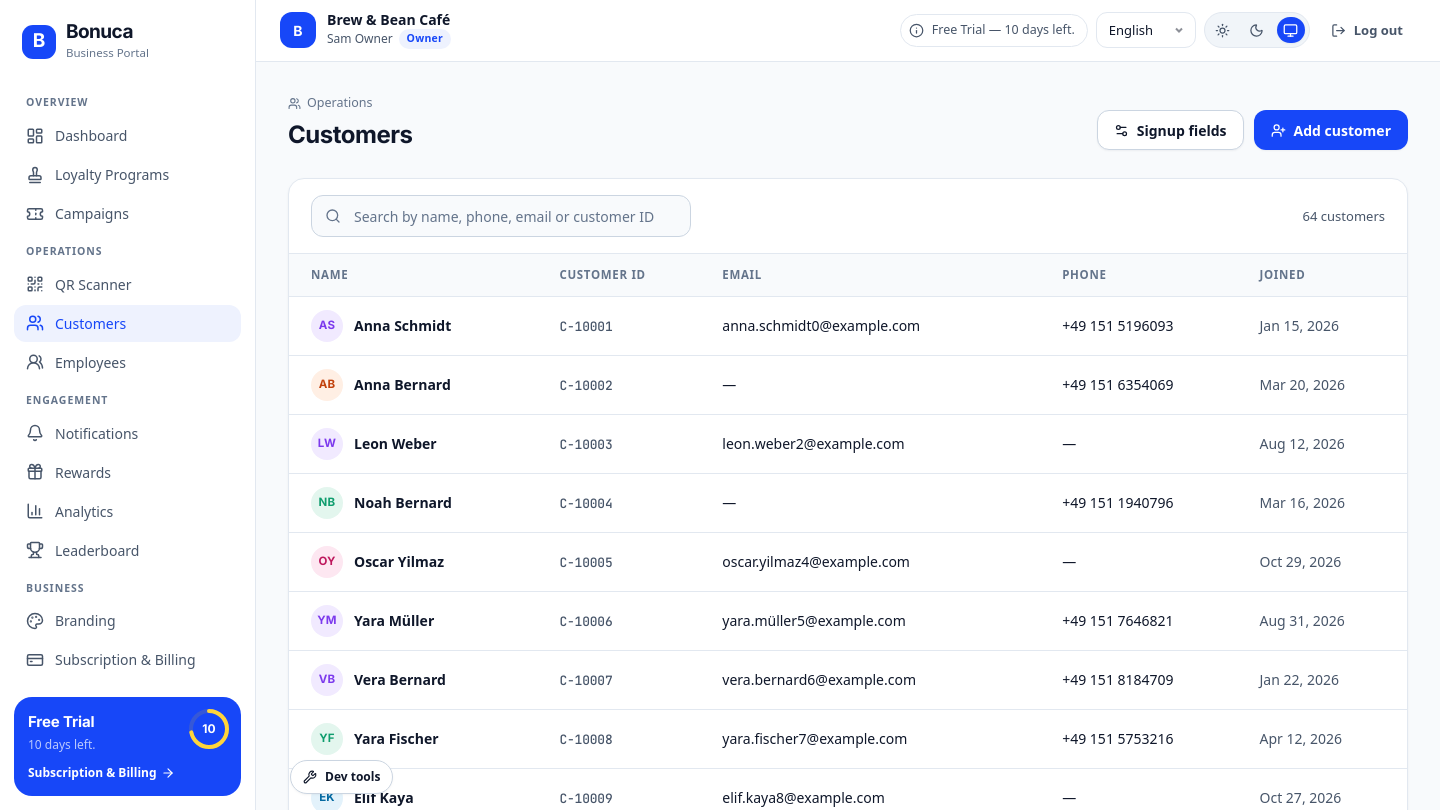
Test: customers search (spec §4.5) › filters by customer ID
Expected: the text "C-10001" is shown, 559,318 -> 613,335
Type "C-10002" into the search field named "Search customers" at (501, 216), box 311,195 -> 691,237
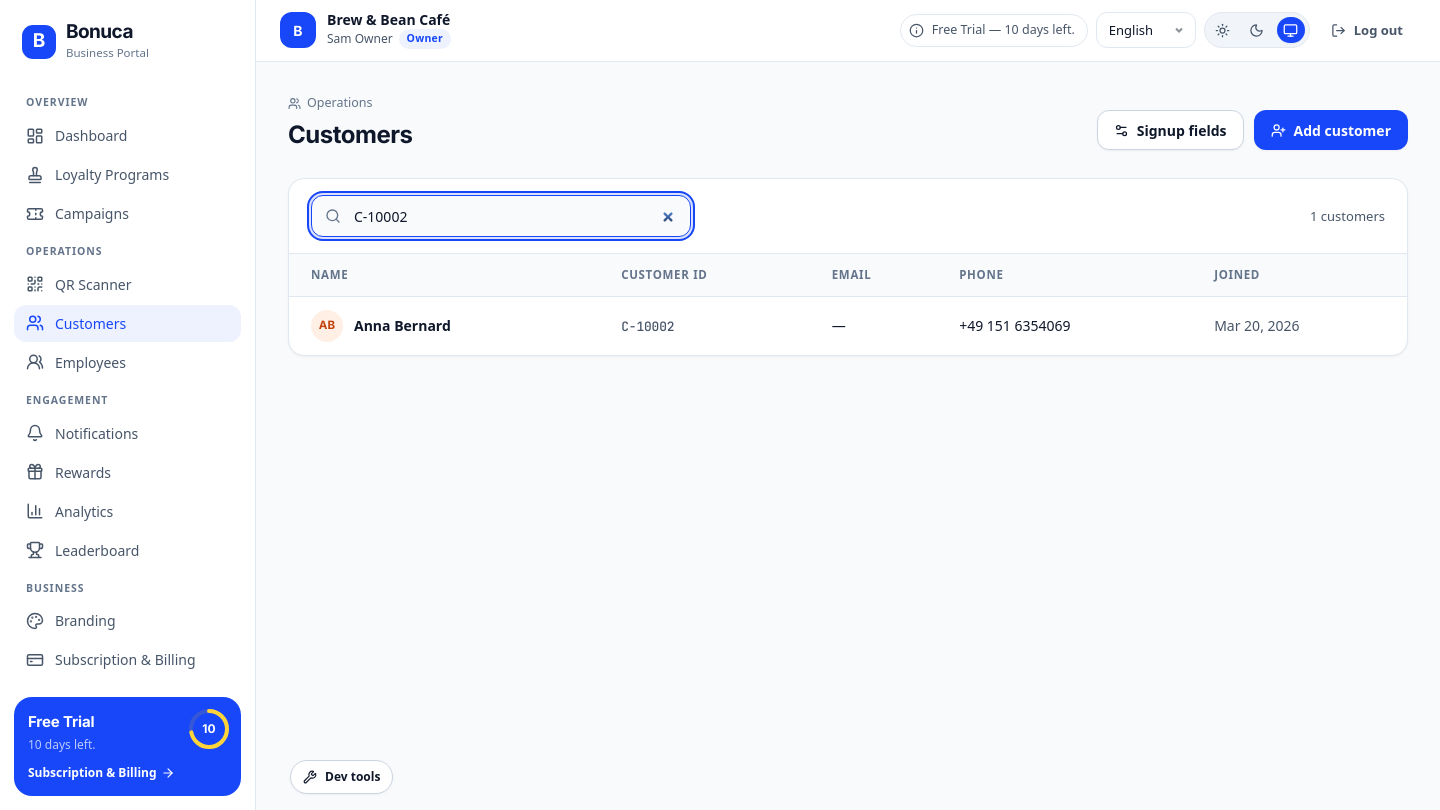
Expected: the text "C-10002" is shown, 621,318 -> 674,335
Now the text "C-10001" is gone
